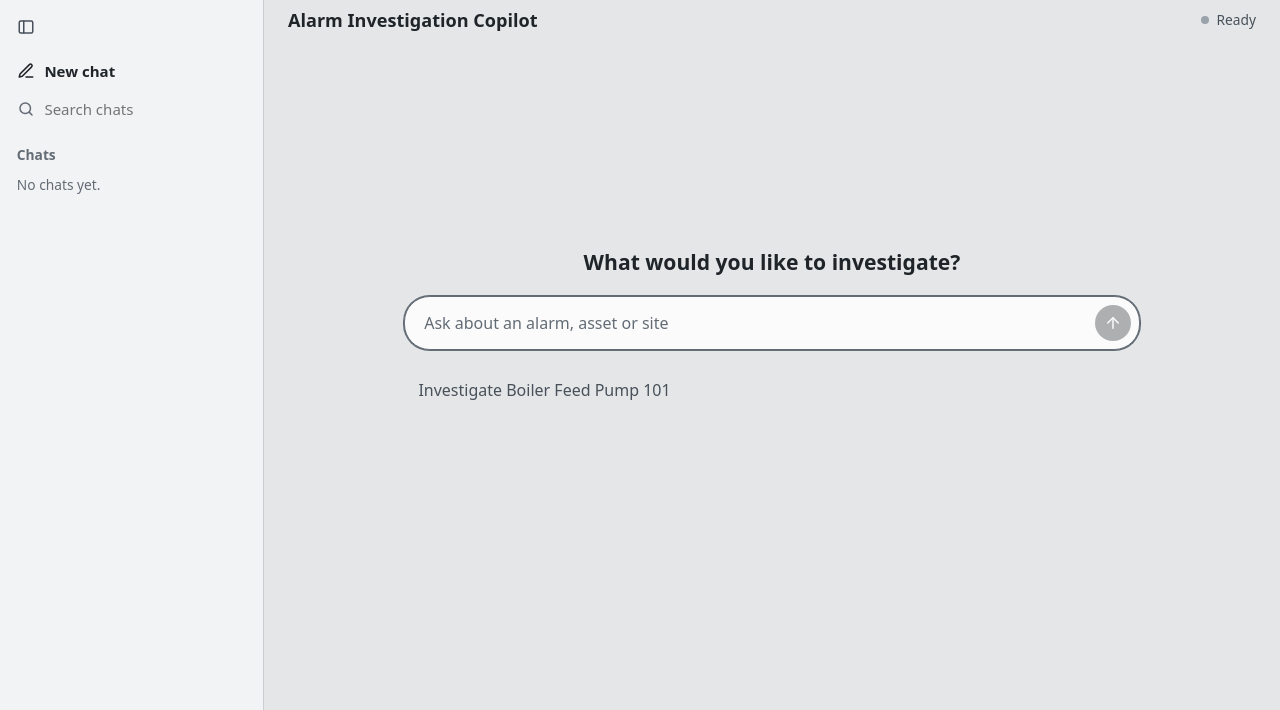
a tool chip opens the step it came from
Type "Investigate Boiler Feed Pump 101" into the text box named "Question" at (750, 323), box [415,303,1086,343]
Then press Enter
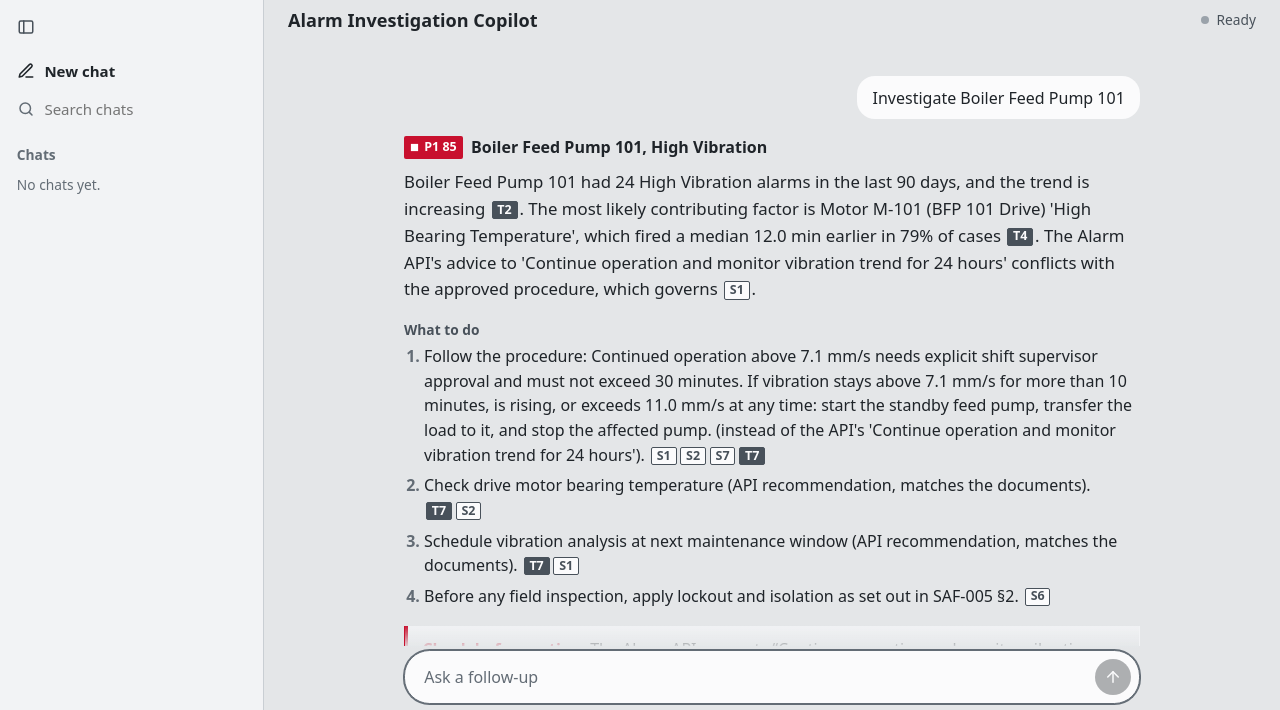
Click the button "T2" at (505, 210), box [492,201,518,219]
(page scrolled)
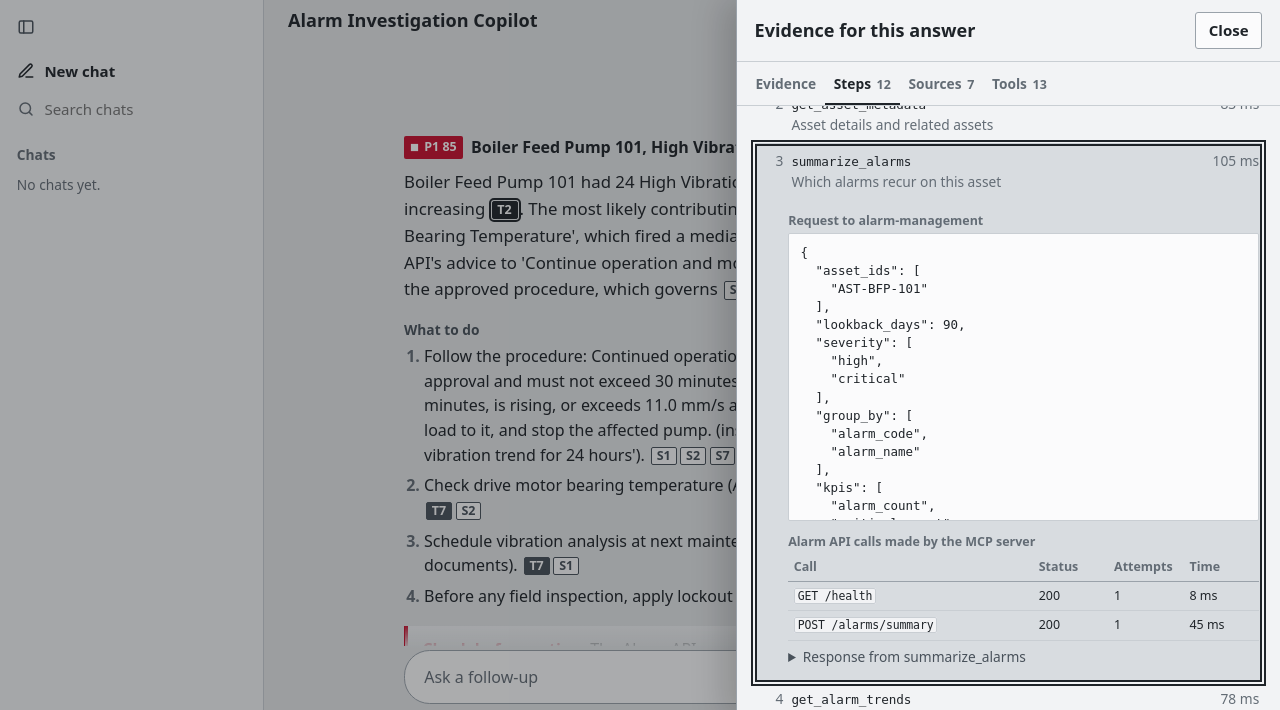
Check: the element with class "trace-step" that starts with "summarize_alarms" is shown, box [755,144,1262,682]
